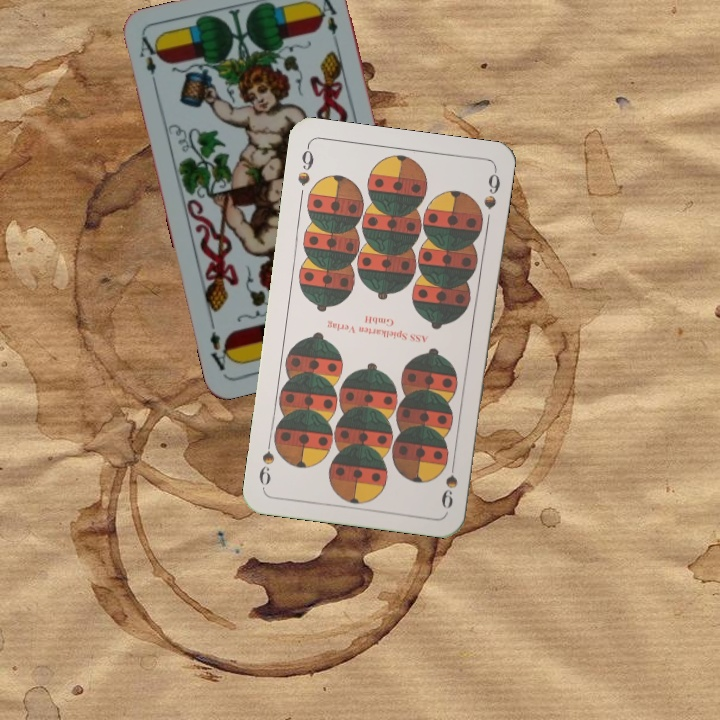EA: (135, 33, 163, 92)
S9: (437, 453, 460, 511), (294, 142, 317, 188)
